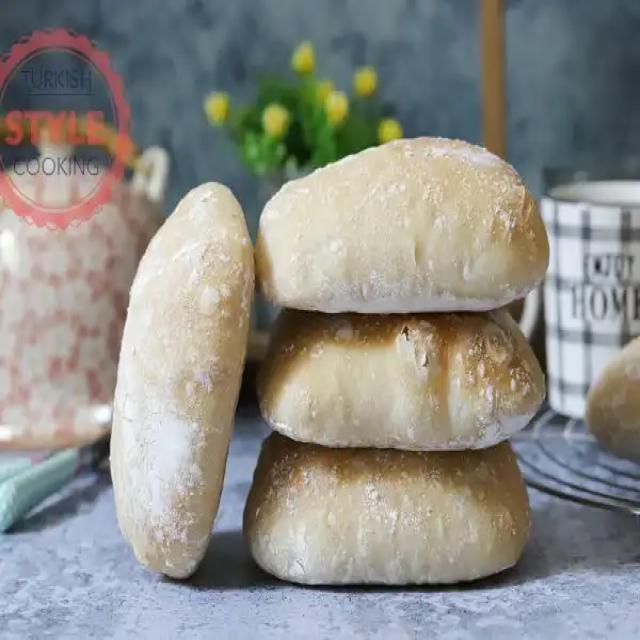Ciabatta: (110, 182, 253, 577), (256, 139, 548, 310), (243, 432, 530, 583), (257, 310, 544, 447)
